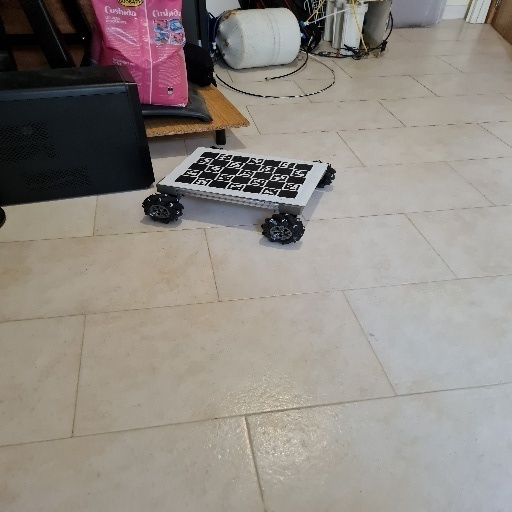Omniwheel: (141, 145, 338, 244)
